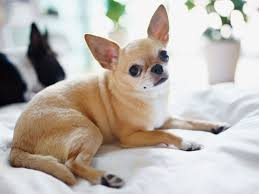Chihuahua: (7, 17, 237, 191)
